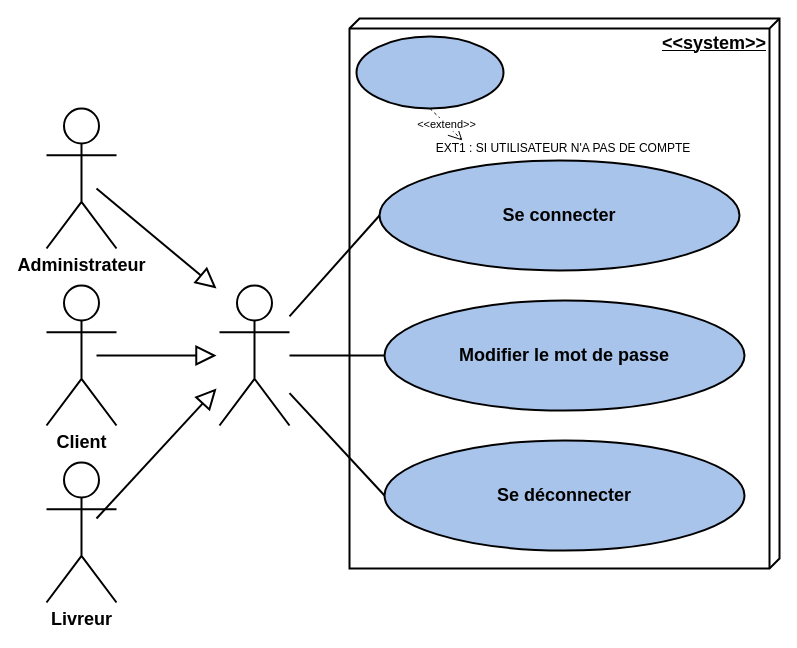
This 797x648 diagram has some shape labels left out. The centre of each missing label's shape, as x and y in pixels:
"S'inscrire" belongs at pixel 429 72.
"Utilisateur" belongs at pixel 254 355.
